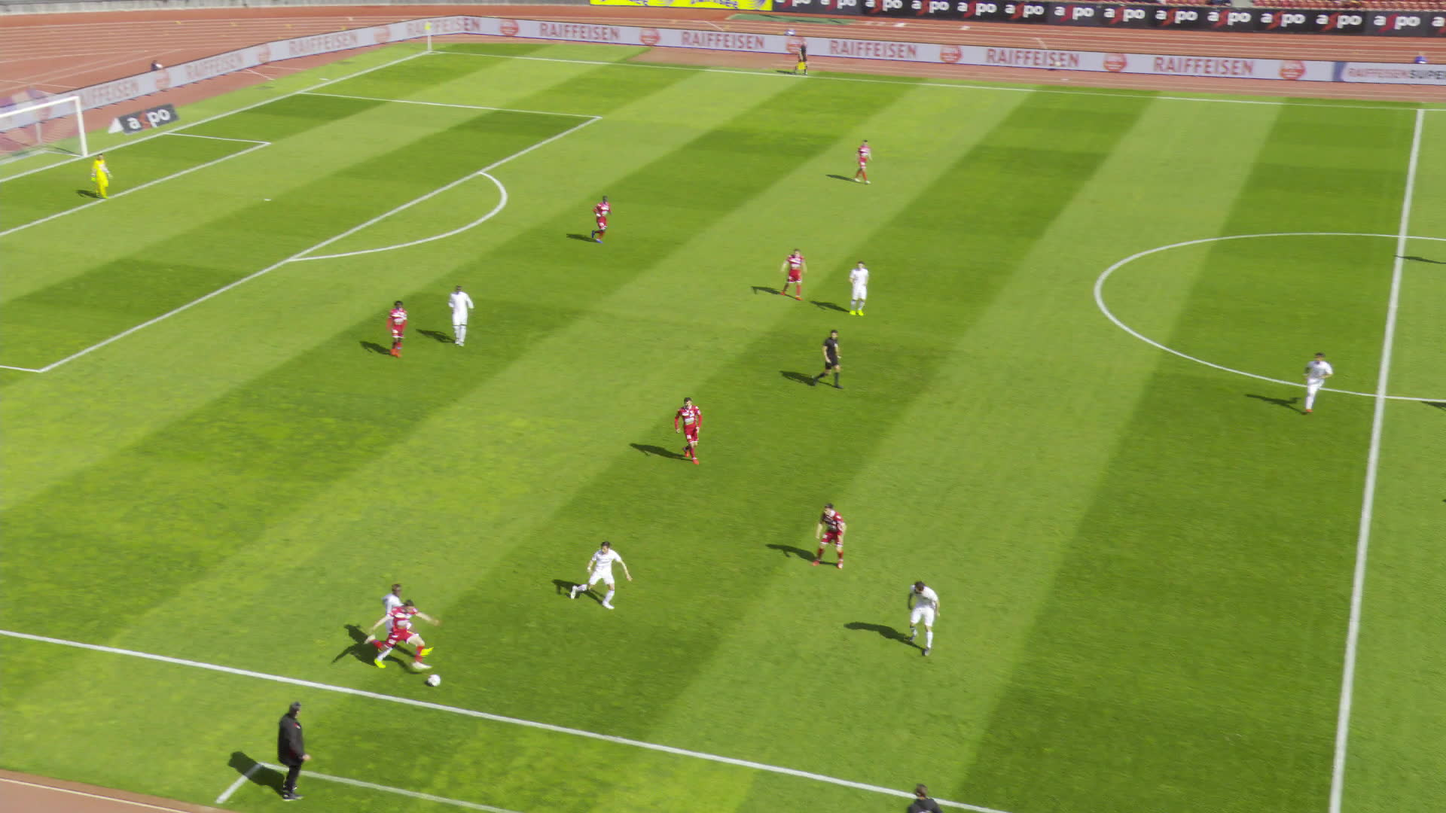ball: (428, 674, 439, 685)
player: (363, 598, 439, 669), (569, 541, 630, 608), (377, 585, 423, 668), (903, 581, 942, 656), (814, 503, 850, 571), (676, 397, 703, 464), (1305, 352, 1334, 413), (453, 285, 479, 347), (784, 248, 813, 301), (385, 300, 407, 358), (850, 262, 873, 317), (591, 194, 614, 244), (93, 154, 117, 200), (854, 140, 873, 184)
referee: (814, 330, 847, 390), (795, 42, 811, 75)
